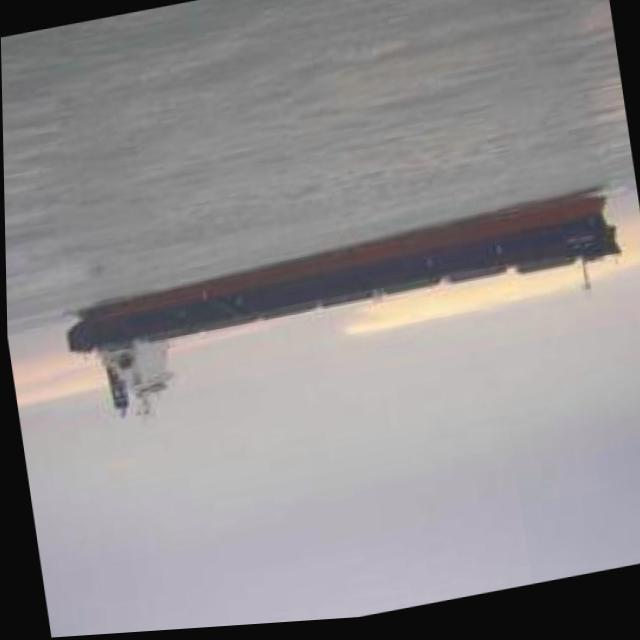ship2: (64, 201, 620, 419)
